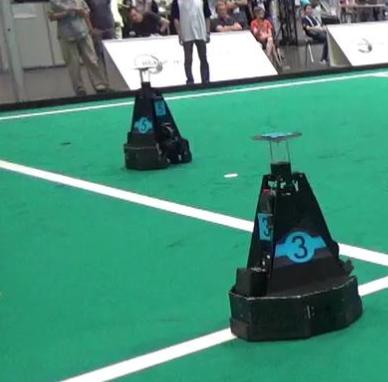robot: (223, 126, 369, 343), (119, 63, 198, 172)
